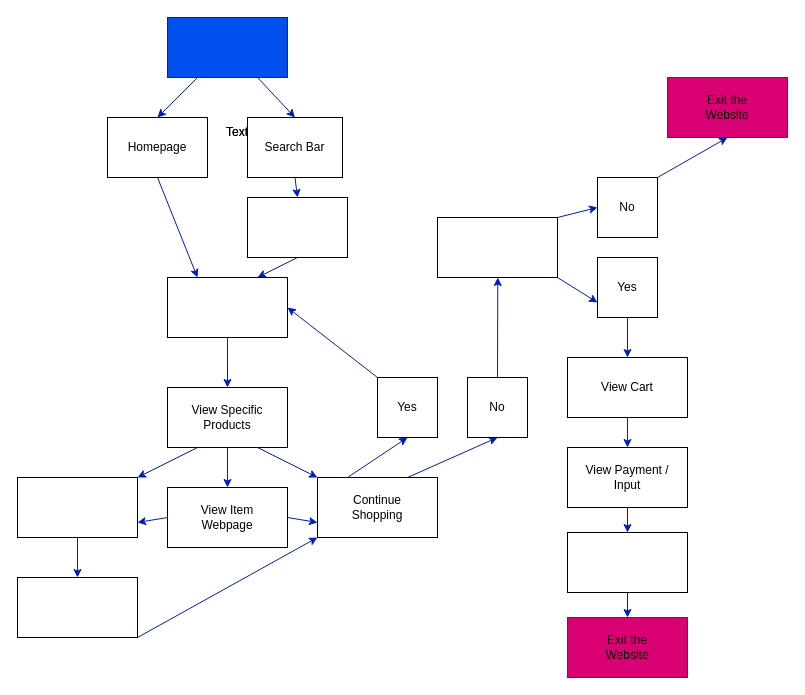
The diagram is 805 pixels wide and 695 high, and some of its shapes have lost their labels. Each missing label, with the centre of its shape:
"Add Item to Cart" goes at point 77,507.
"Cart Notification" goes at point 77,607.
"Checkout" goes at point 497,247.
"Explore Products" goes at point 227,307.
"Order Confirmation Screen + Email" goes at point 627,562.
"User Enters the Website" goes at point 227,47.
"User Input" goes at point 297,227.
